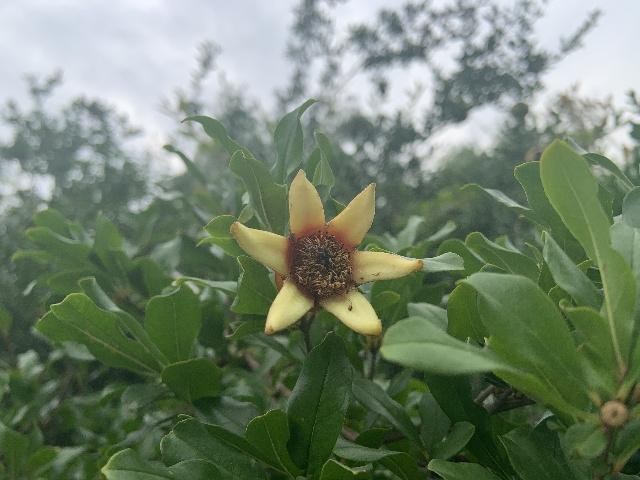early-fruit: (232, 168, 423, 340)
